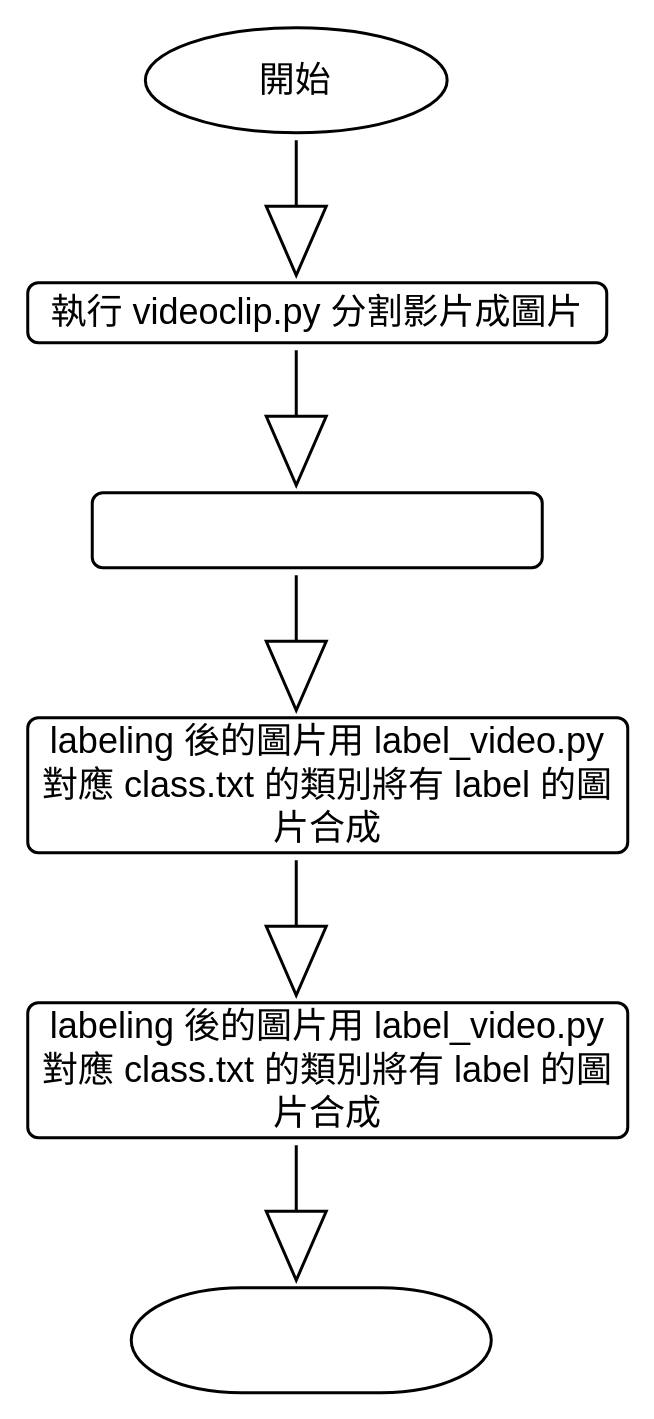
Image size: 654x1419. Some labels were removed from this diagram. The shapes that lost their labels are listed below. From the top down, each one's centre as x and y in pixels, then its label:
At pixel 316 529: "分割完成的圖片做 labeling".
At pixel 310 1340: "獲得輸出 output.mp4".
